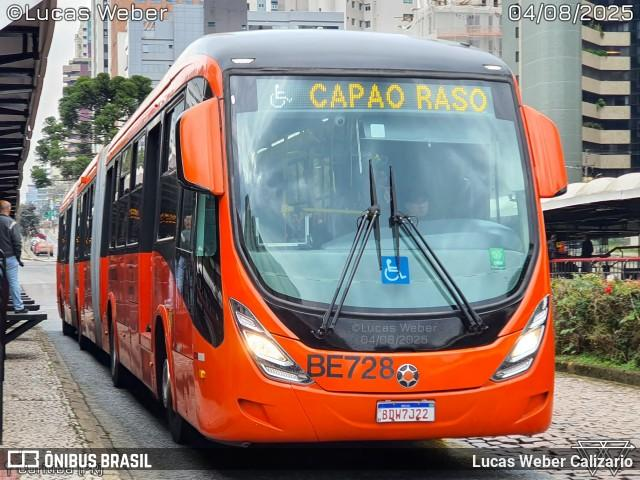CAPAO RASO: (302, 79, 493, 118)
